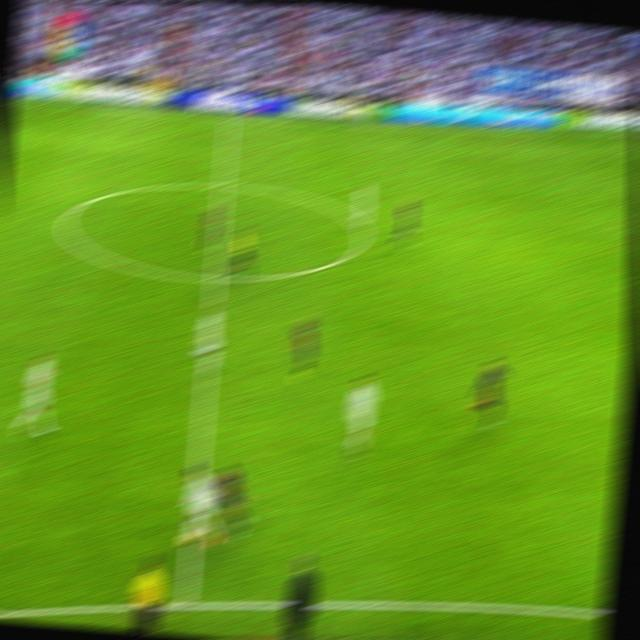halfcircle_bottom: (204, 264, 225, 290)
halfcircle_top: (212, 172, 233, 195)
midline_bottom_intersection: (172, 584, 201, 607)
midline_top_intersection: (220, 111, 237, 125)
